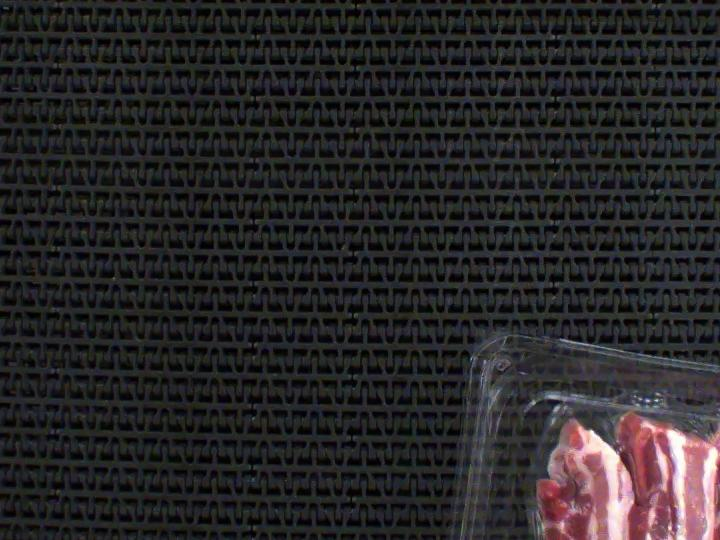unsealed: (509, 359, 720, 540)
